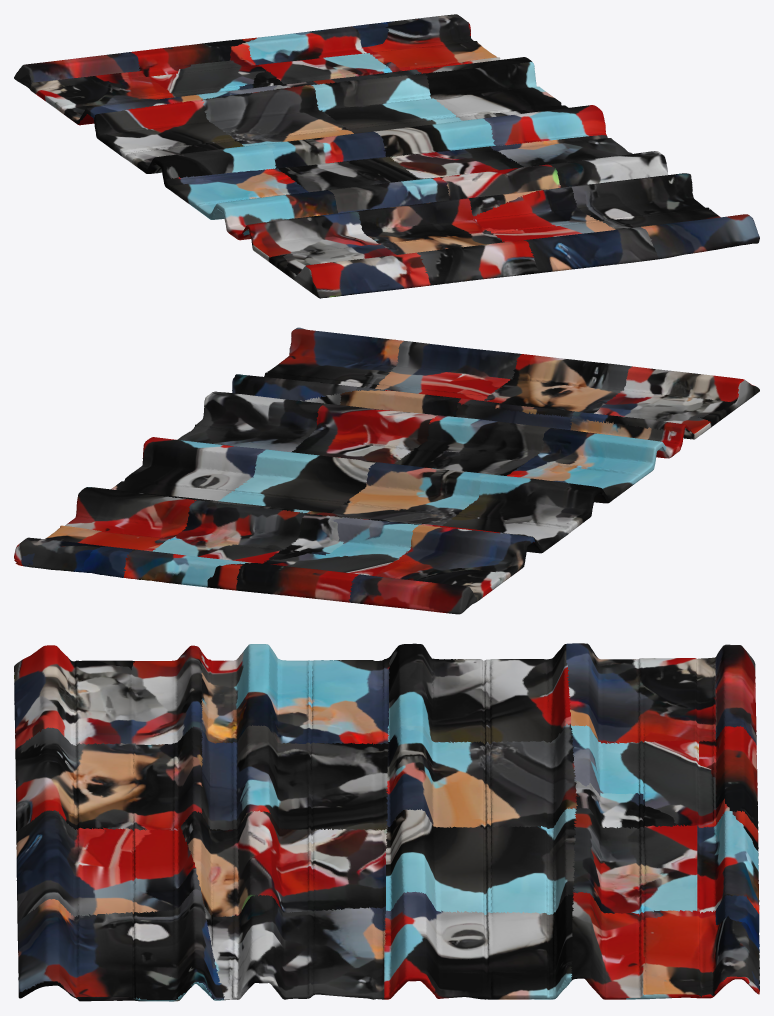
The picture shows the model from 3 angles, top to bottom: view 1: azimuth 30°, elevation 25°; view 2: azimuth 150°, elevation 25°; view 3: azimuth 270°, elevation 25°; orthographic projection. The views are drawn at different scales.
Parts seen in each view (by area): view 1: tripo_node_b4c79f63-54a7-44b6-9894-c644defef16e; view 2: tripo_node_b4c79f63-54a7-44b6-9894-c644defef16e; view 3: tripo_node_b4c79f63-54a7-44b6-9894-c644defef16e.
Part boxes in pixels (box(x1,y1,x2,y2)): tripo_node_b4c79f63-54a7-44b6-9894-c644defef16e: box(14, 14, 759, 298); tripo_node_b4c79f63-54a7-44b6-9894-c644defef16e: box(14, 327, 759, 614); tripo_node_b4c79f63-54a7-44b6-9894-c644defef16e: box(14, 643, 759, 1001).
Size of the model in its own units: 85.89 by 14.15 by 100.
